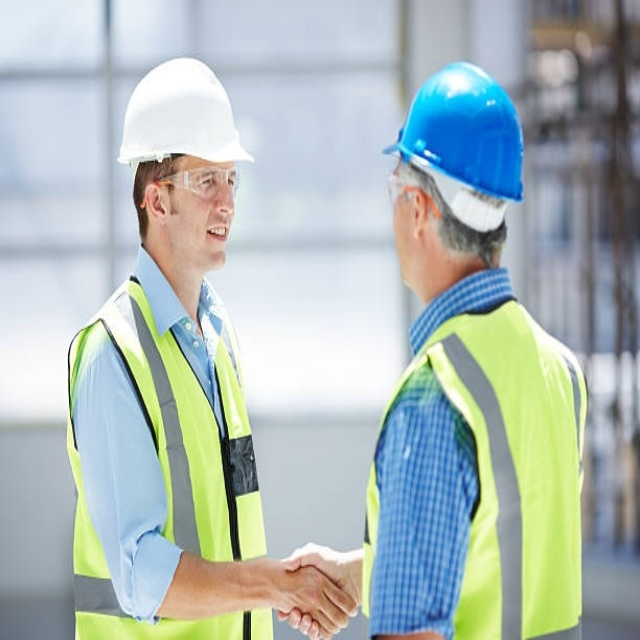Gafas: (139, 162, 248, 207), (386, 168, 435, 209)
Sin_guantes: (267, 543, 362, 639)
Sin_mascara: (197, 222, 233, 263)
